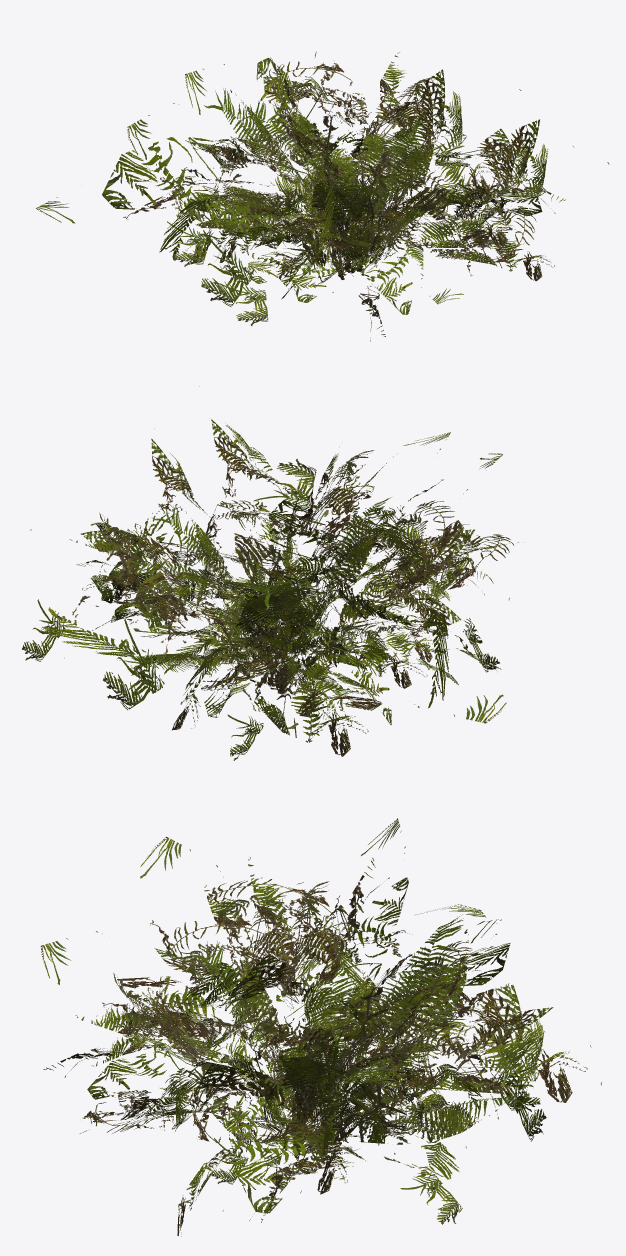
File: fern.gltf
3 renders of one model, top to bottom at view 1: azimuth 30°, elevation 25°; view 2: azimuth 150°, elevation 25°; view 3: azimuth 270°, elevation 25°, orthographic. The views are drawn at different scales.
Parts seen in each view (by area): view 1: SM_rmAsg_VarA, SM_rmAsg_VarC, SM_rmAsg_VarF, SM_rmAsg_VarB, SM_rmAsg_VarE, SM_rmAsg_VarD; view 2: SM_rmAsg_VarA, SM_rmAsg_VarC, SM_rmAsg_VarF, SM_rmAsg_VarB, SM_rmAsg_VarD, SM_rmAsg_VarE; view 3: SM_rmAsg_VarA, SM_rmAsg_VarF, SM_rmAsg_VarC, SM_rmAsg_VarB, SM_rmAsg_VarD, SM_rmAsg_VarE.
Boxes of the visible parts, <box> form: SM_rmAsg_VarA: <box>185,51,521,281</box>; SM_rmAsg_VarC: <box>127,76,609,302</box>; SM_rmAsg_VarF: <box>102,58,542,314</box>; SM_rmAsg_VarB: <box>167,93,565,283</box>; SM_rmAsg_VarE: <box>185,125,524,341</box>; SM_rmAsg_VarD: <box>36,116,397,268</box>; SM_rmAsg_VarA: <box>69,386,469,719</box>; SM_rmAsg_VarC: <box>22,438,518,710</box>; SM_rmAsg_VarF: <box>42,500,499,730</box>; SM_rmAsg_VarB: <box>40,502,509,760</box>; SM_rmAsg_VarD: <box>200,520,513,748</box>; SM_rmAsg_VarE: <box>115,500,501,756</box>; SM_rmAsg_VarA: <box>40,818,523,1194</box>; SM_rmAsg_VarF: <box>87,877,587,1213</box>; SM_rmAsg_VarC: <box>75,837,601,1224</box>; SM_rmAsg_VarB: <box>80,946,540,1236</box>; SM_rmAsg_VarD: <box>117,879,591,1142</box>; SM_rmAsg_VarE: <box>43,935,446,1211</box>.
Size of what is drawn, in the model's own units: 2.37 by 1.05 by 2.
Materials: 1 (1 with a texture image).
